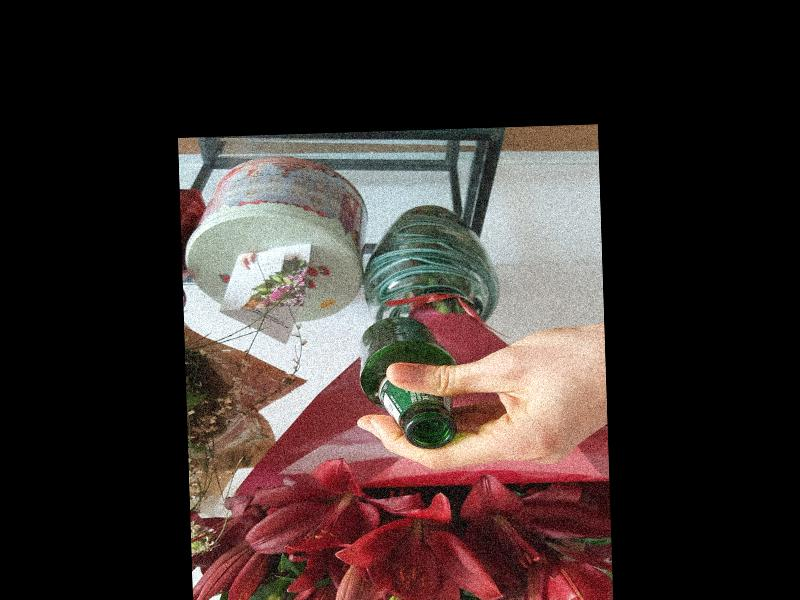Beer: (358, 315, 460, 451)
